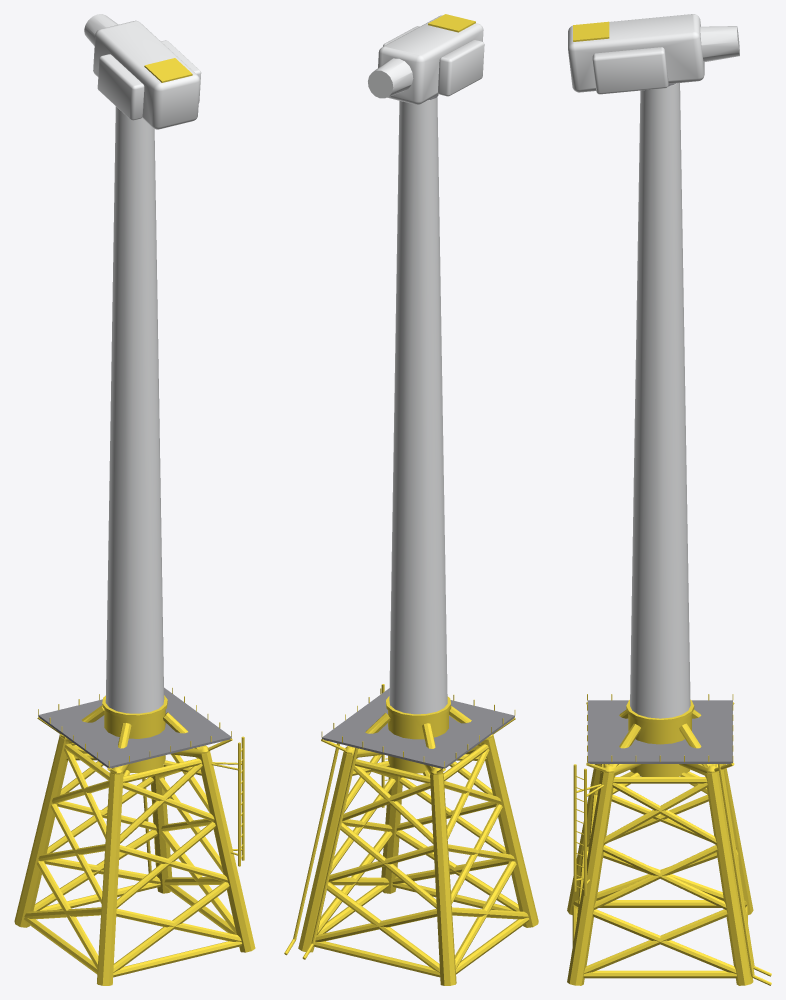
The model's file is turbine_static.glb.
3 renders of one model, left to right at view 1: azimuth 30°, elevation 25°; view 2: azimuth 150°, elevation 25°; view 3: azimuth 270°, elevation 25°, orthographic. The views are drawn at different scales.
Visible parts, largest first — view 1: white, yellow, gray; view 2: white, yellow, gray; view 3: white, yellow, gray.
Boxes of the visible parts, bbox=[...] form: white: bbox=[84, 14, 201, 713]; yellow: bbox=[14, 58, 255, 985]; gray: bbox=[38, 687, 231, 768]; white: bbox=[368, 15, 484, 714]; yellow: bbox=[284, 14, 538, 985]; gray: bbox=[322, 95, 514, 768]; white: bbox=[568, 14, 739, 718]; yellow: bbox=[567, 21, 771, 985]; gray: bbox=[587, 83, 732, 763].
Bounding box in the file's own units: 31.18 × 169 × 33.81.
